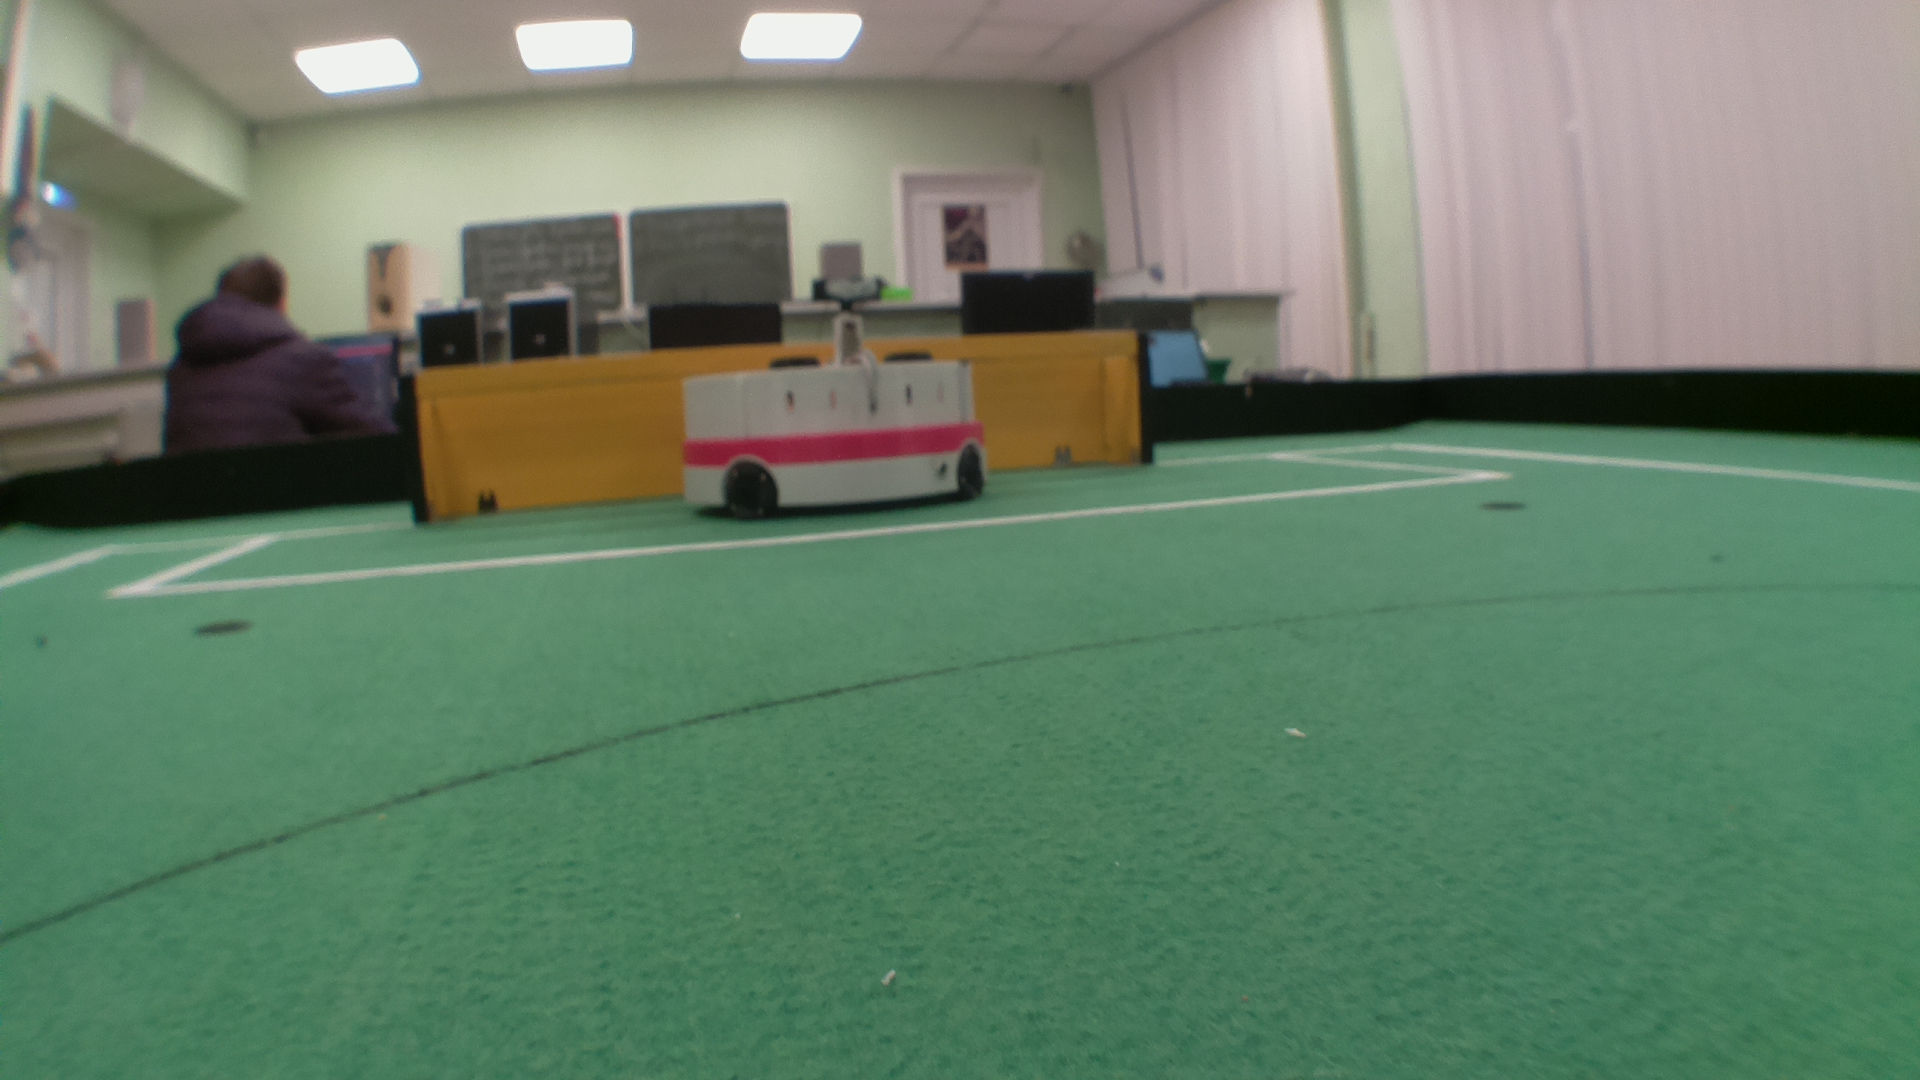YellowGoal: (415, 342, 1141, 518)
